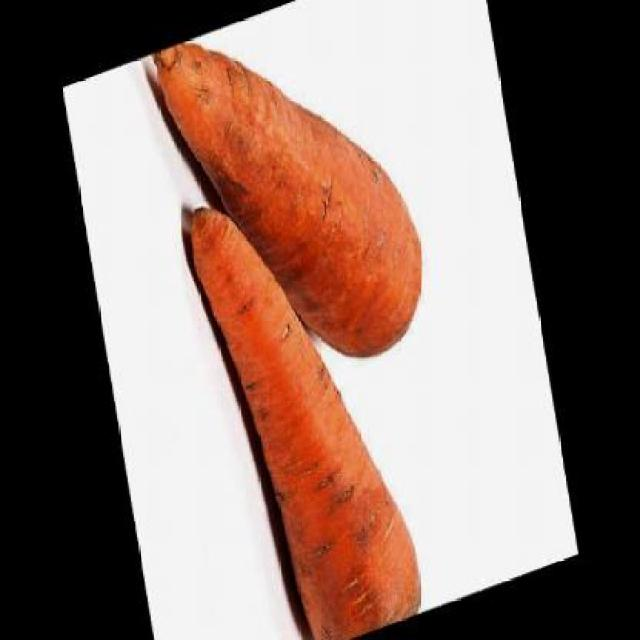carrot: (145, 0, 437, 423), (186, 151, 426, 638)
